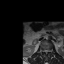CCS_normal: (45, 48, 47, 55)
LFS_stenosis: (49, 48, 50, 53)
LLS_stenosis: (47, 48, 49, 53)
RFS_stenosis: (41, 48, 43, 53)
RLS_stenosis: (43, 48, 45, 53)
